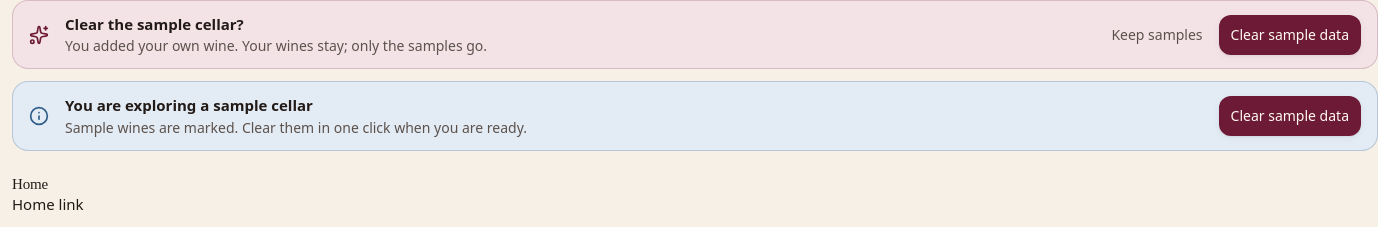
Scenario: SampleDataWatcher › asks only once, and Keep samples keeps them
This screenshot has width=1378, height=227.
Click the button "Keep samples" at (1157, 35), box [1099,15,1215,55]
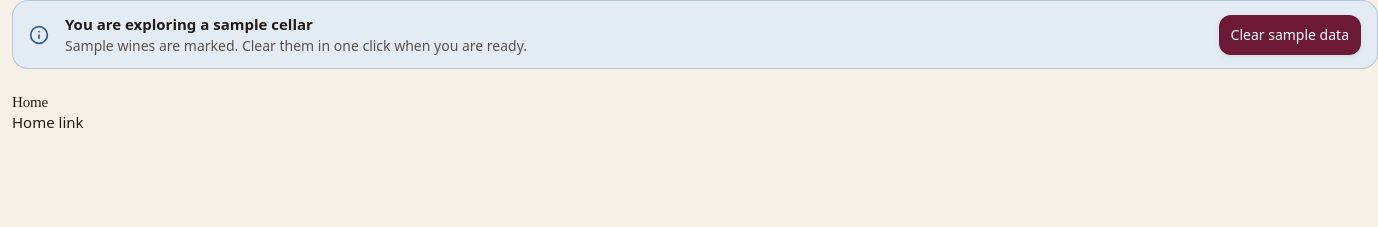
Now the text "Clear the sample cellar?" is gone
